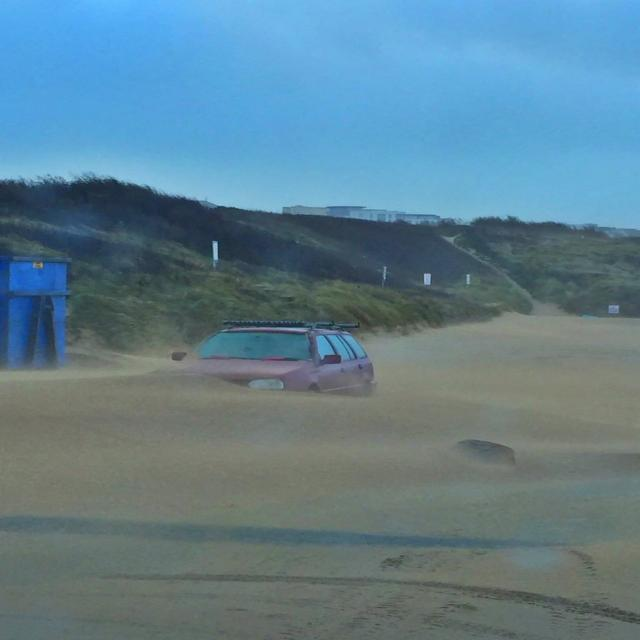car: (179, 324, 375, 392)
